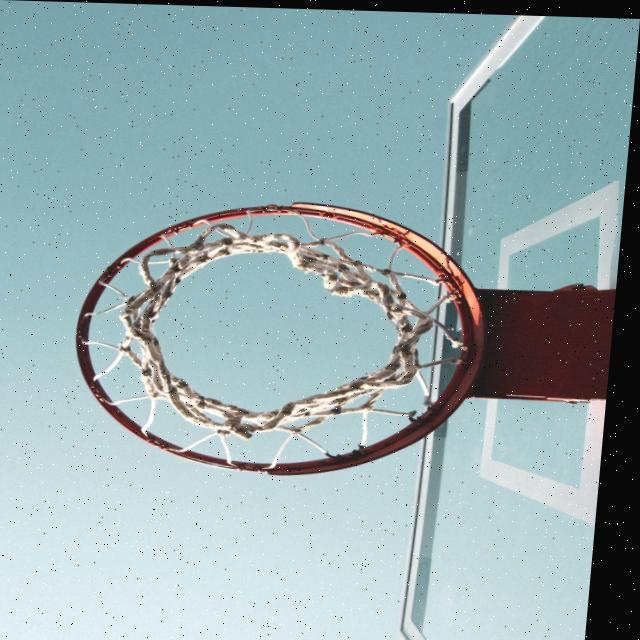hoop: (33, 171, 624, 486)
